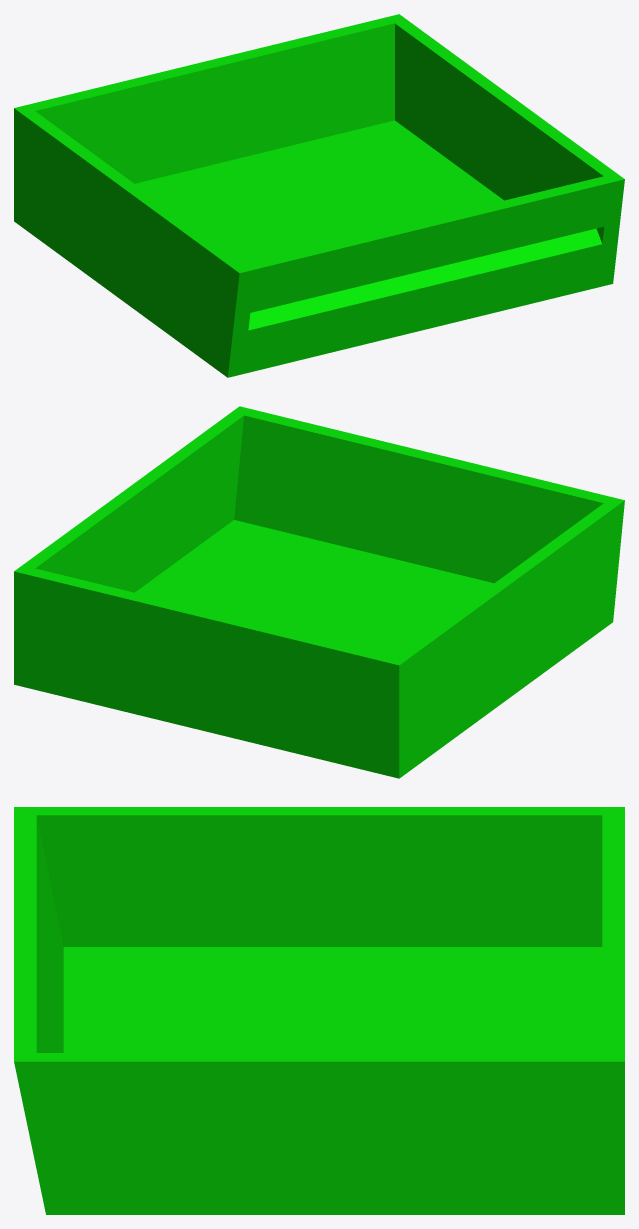
The model's file is AntagNightstandDrawerA.fbx.
3 renders of one model, top to bottom at view 1: azimuth 30°, elevation 25°; view 2: azimuth 150°, elevation 25°; view 3: azimuth 270°, elevation 25°, orthographic. The views are drawn at different scales.
Parts seen in each view (by area): view 1: AntagNightstandDrawerA; view 2: AntagNightstandDrawerA; view 3: AntagNightstandDrawerA.
Part boxes in pixels (left/top/right/bottom): AntagNightstandDrawerA: left=14, top=14, right=624, bottom=377; AntagNightstandDrawerA: left=14, top=406, right=624, bottom=778; AntagNightstandDrawerA: left=14, top=807, right=624, bottom=1214.
Size of the model in its own units: 73.47 by 20.64 by 74.51.
